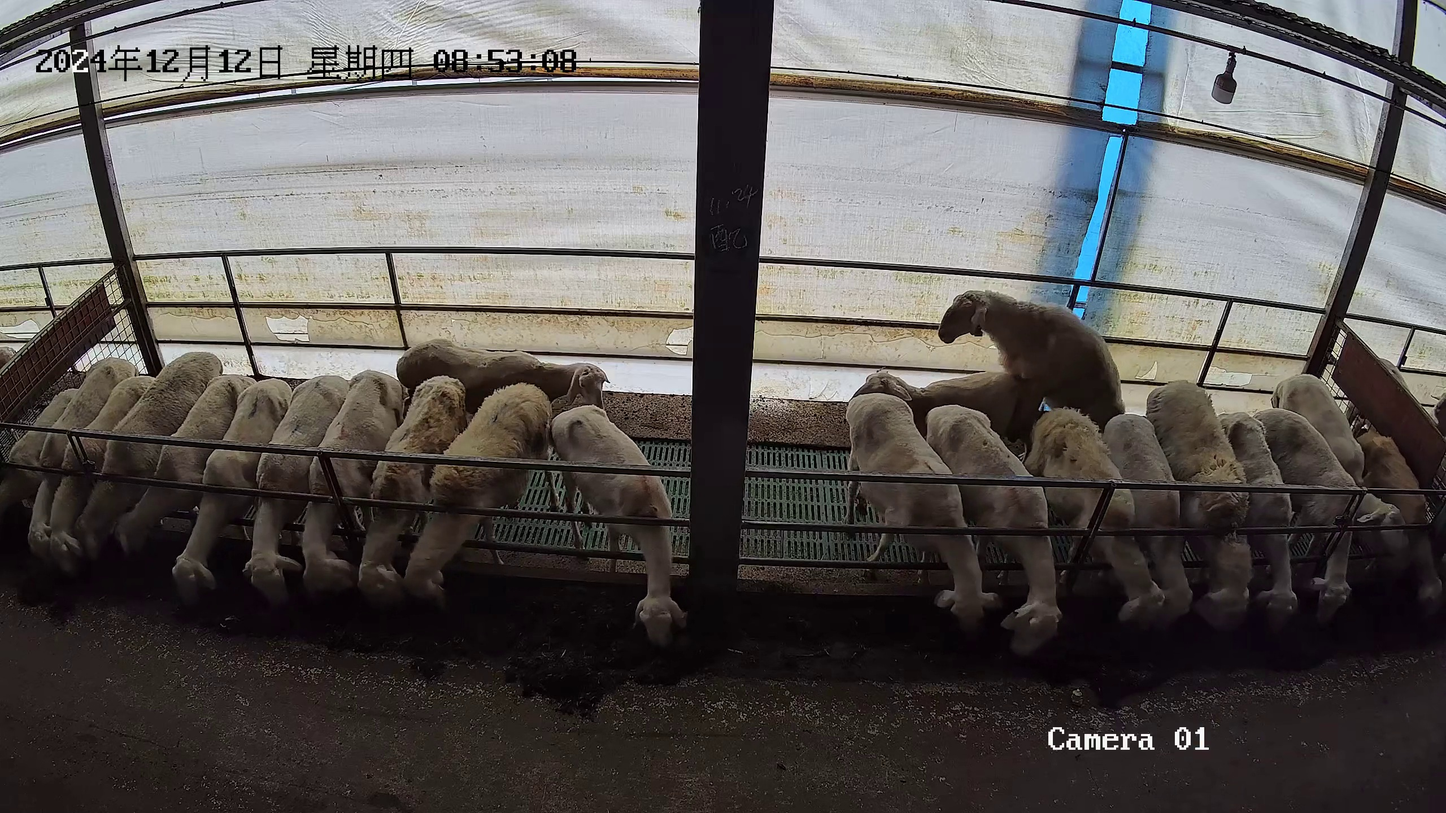Smounting: (843, 286, 1127, 470)
mounted: (848, 365, 1038, 465)
